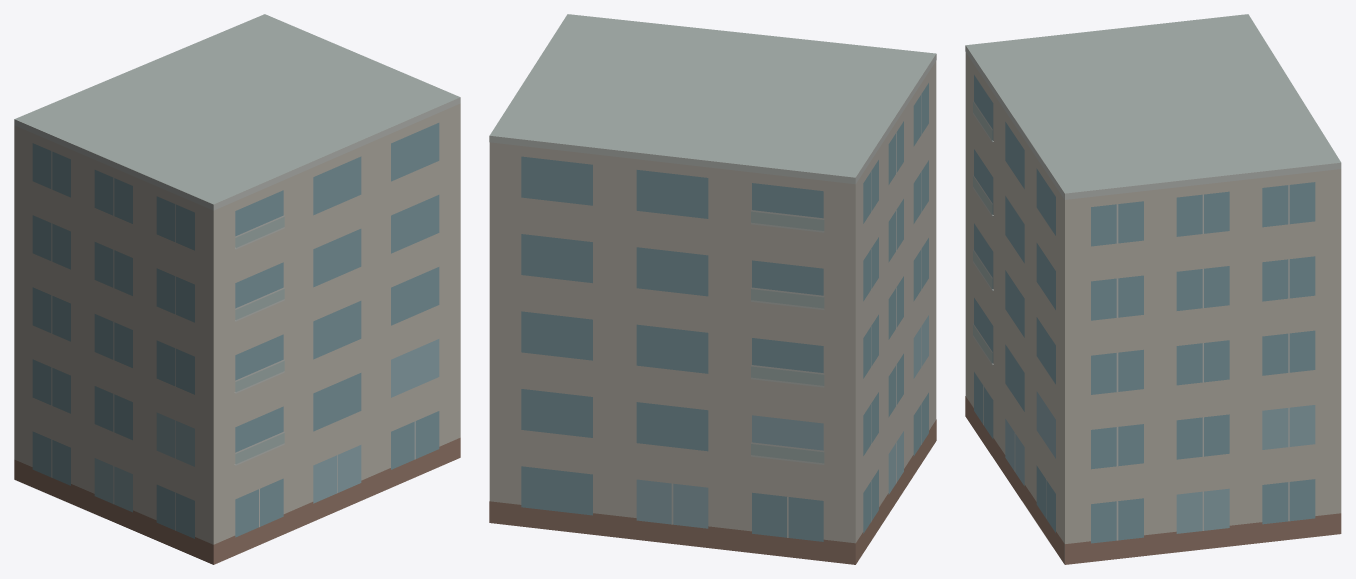
Rendered from survey-upis-32720483.glb.
3 renders of one model, left to right at view 1: azimuth 30°, elevation 25°; view 2: azimuth 150°, elevation 25°; view 3: azimuth 270°, elevation 25°, orthographic. The views are drawn at different scales.
Visible parts, largest first — view 1: survey-upis-32720483.tmp; view 2: survey-upis-32720483.tmp; view 3: survey-upis-32720483.tmp.
Part boxes in pixels (x1,y1,x2,y2): survey-upis-32720483.tmp: (14, 14, 460, 564); survey-upis-32720483.tmp: (489, 14, 936, 564); survey-upis-32720483.tmp: (965, 14, 1341, 564).
Size of the model in its own units: 14.84 by 14.3 by 13.13.
